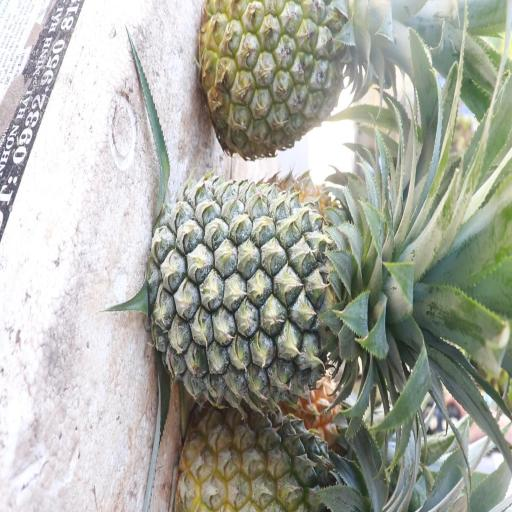------------------------------: (201, 0, 351, 147), (176, 398, 365, 512)
